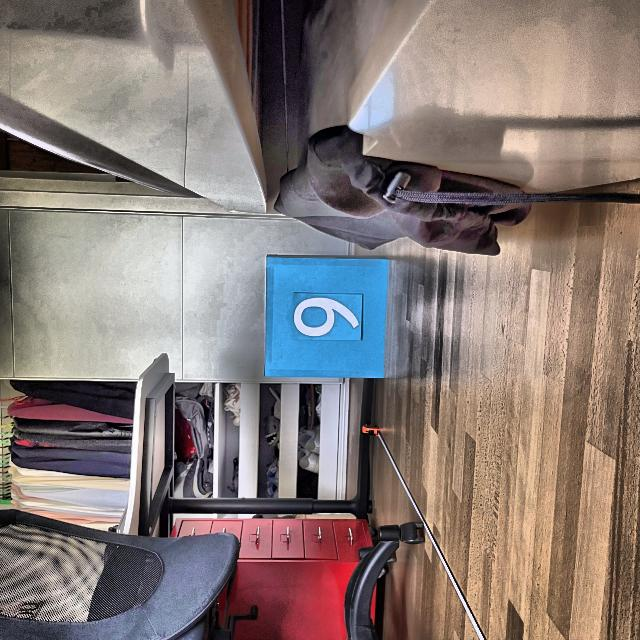blue box: (261, 250, 393, 380)
nine: (293, 293, 362, 338)
